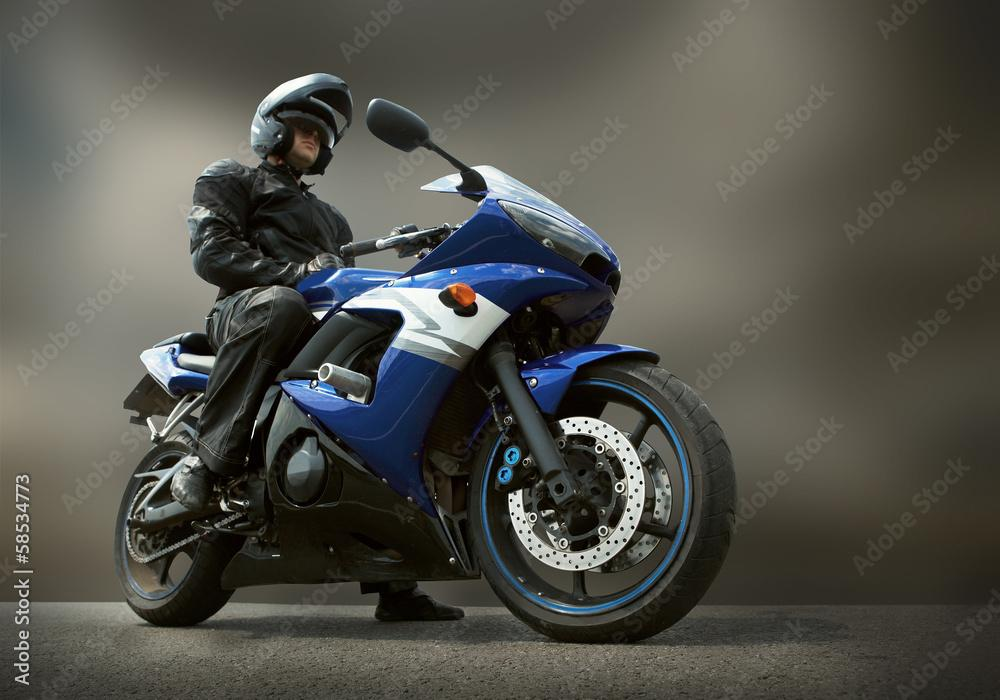helmet: (250, 71, 354, 181)
